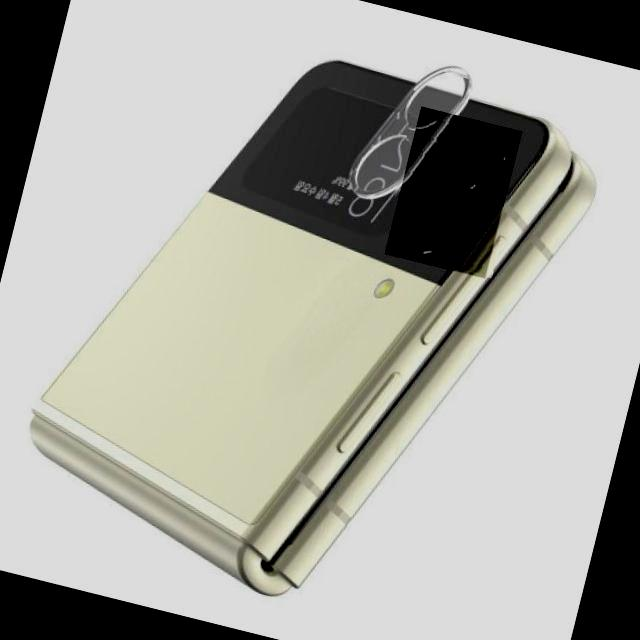lens: (406, 120, 518, 266)
phone: (30, 61, 598, 596)
